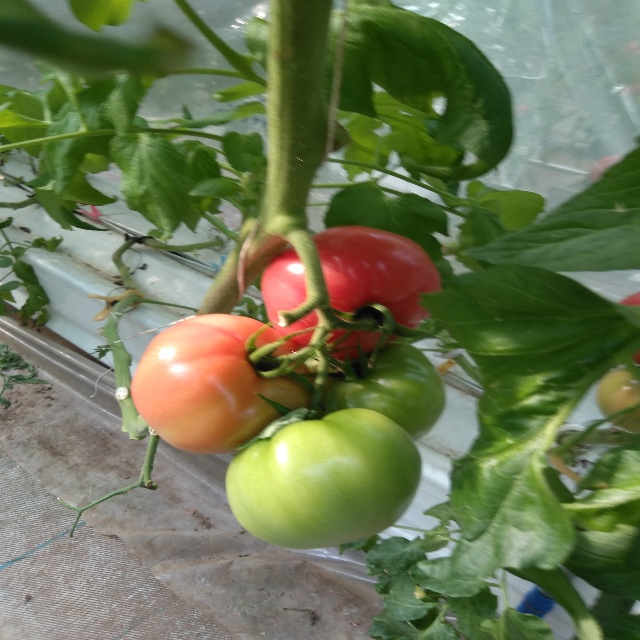b_fully_ripened: (260, 225, 442, 360)
b_green: (225, 408, 421, 549), (308, 342, 446, 441)
b_half_ripened: (130, 313, 316, 454), (597, 365, 639, 434)
